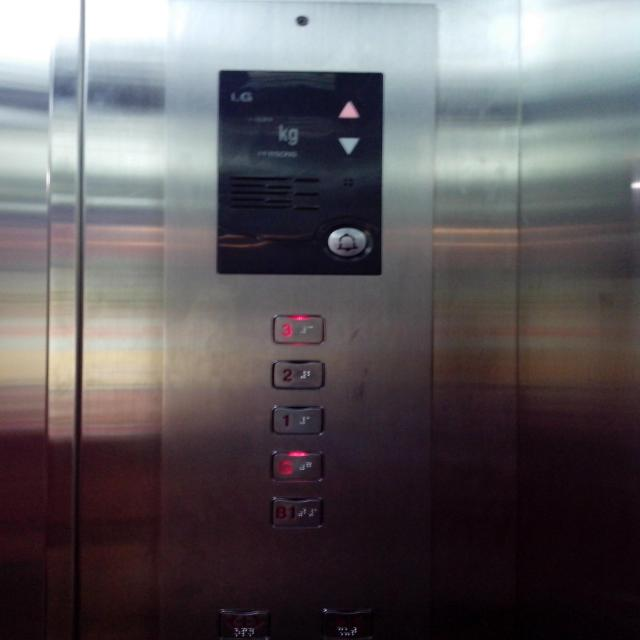1: (270, 405, 324, 435)
2: (270, 360, 325, 390)
3: (271, 314, 325, 345)
B1: (270, 496, 325, 531)
G: (270, 450, 325, 483)
alarm: (327, 226, 368, 257)
unknown: (320, 608, 374, 639), (218, 608, 270, 640)
